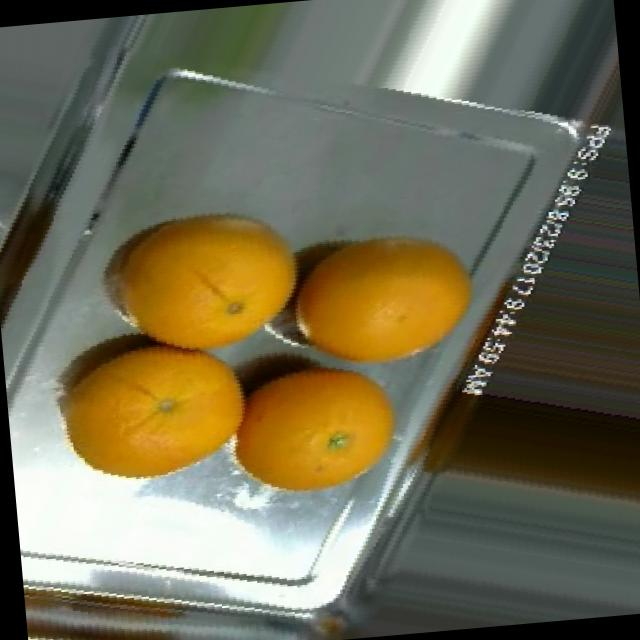Fruit: (5, 292, 246, 511), (261, 191, 506, 396), (198, 338, 434, 524), (68, 178, 278, 372)
